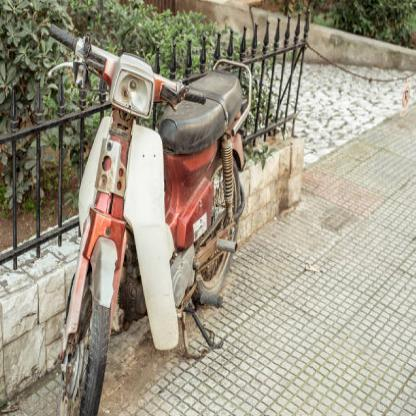Motorcycle: (29, 13, 259, 415)
